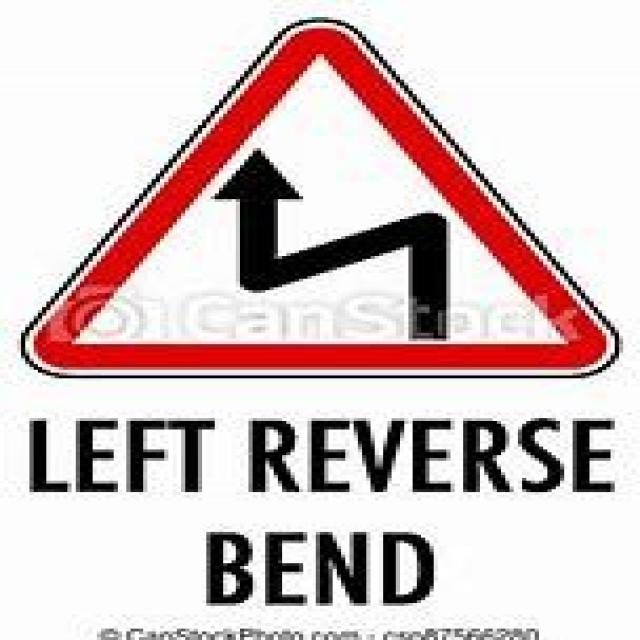LEFT_REVERSE_BEND: (16, 20, 622, 379)
